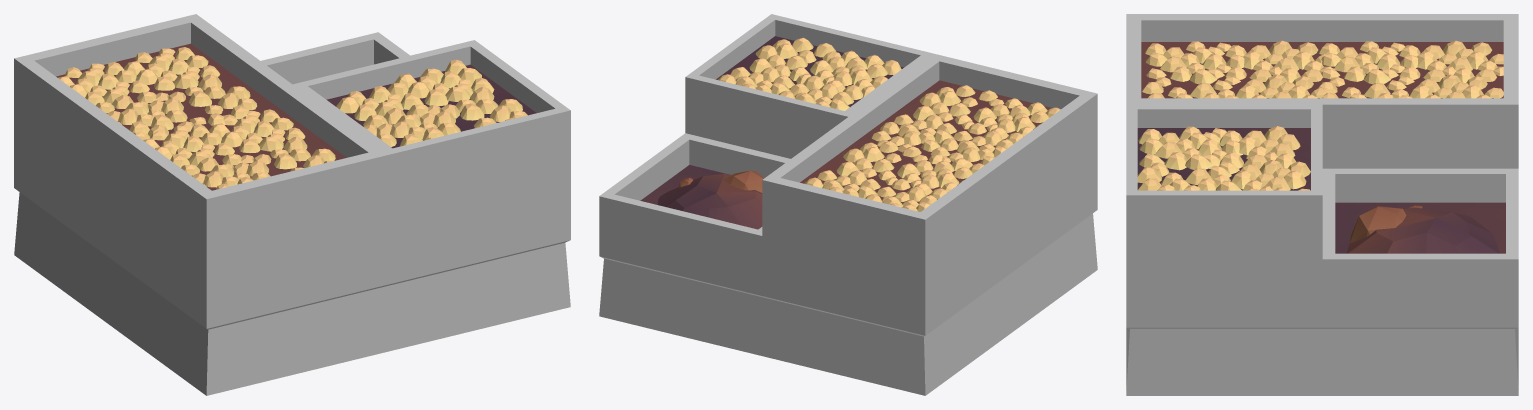
Rendered from Garden_SquarePlanter02.fbx.
The picture shows the model from 3 angles, left to right: view 1: azimuth 30°, elevation 25°; view 2: azimuth 150°, elevation 25°; view 3: azimuth 270°, elevation 25°; orthographic projection. The views are drawn at different scales.
Parts seen in each view (by area): view 1: Box Planter02; view 2: Box Planter02; view 3: Box Planter02.
Part boxes in pixels (x1=…): Box Planter02: x1=14, y1=14, x2=570, y2=395; Box Planter02: x1=599, y1=14, x2=1097, y2=395; Box Planter02: x1=1126, y1=14, x2=1518, y2=395.
Size of the model in its own units: 85.05 by 43.89 by 77.81.
